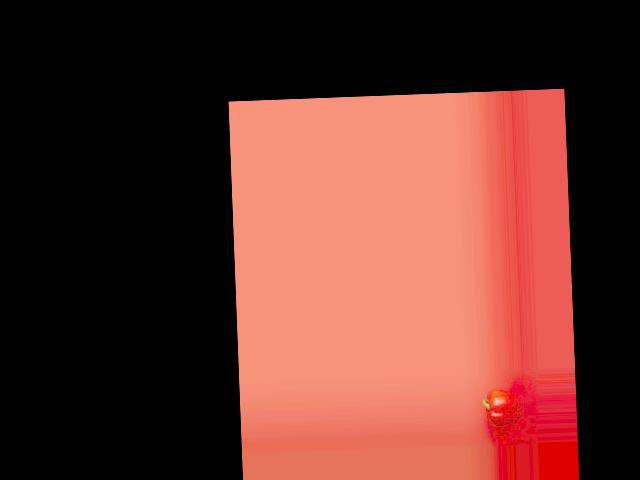bell_pepper: (480, 390, 523, 428)
